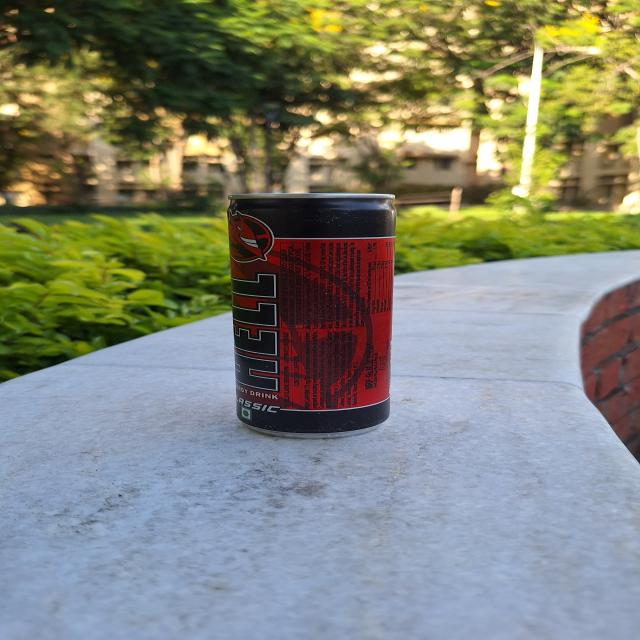Hell Classic: (218, 188, 408, 438)
